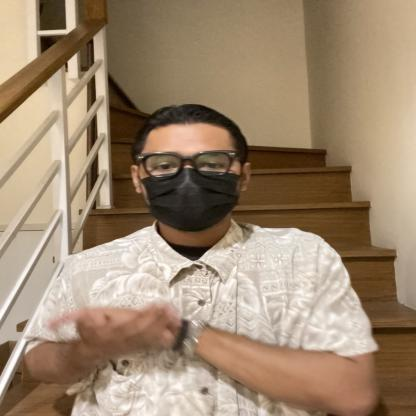Love: (22, 280, 258, 376)
